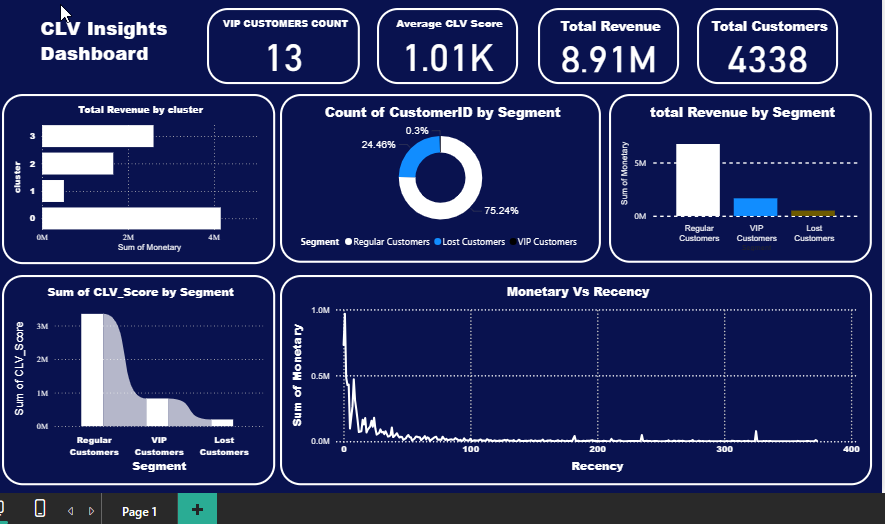

This screenshot's page, from the dashboard's own definition file:
{"tool":"powerbi","page":{"name":"Page 1","canvas":[1280,720],"ordinal":0},"visuals":[{"type":"textbox","box":[59.3,23.1,229.9,94],"z":0},{"type":"card","title":"Total Customers","fields":{"Values":["CountNonNull(CLV_Final_Project.CustomerID)"]},"box":[1013.5,18.8,203.9,109.9],"z":1000},{"type":"card","title":"Total Revenue","fields":{"Values":["Sum(CLV_Final_Project.Monetary)"]},"box":[783.6,18.8,203.9,109.9],"z":2000},{"type":"card","title":"Average CLV Score","fields":{"Values":["Avg(CLV_Final_Project.CLV_Score)"]},"box":[550.8,18.8,203.9,109.9],"z":2001},{"type":"card","title":"VIP CUSTOMERS COUNT","fields":{"Values":["CLV_Final_Project.VIP_Customers"]},"box":[305.1,18.8,221.2,109.9],"z":2002},{"type":"donutChart","fields":{"Y":["CountNonNull(CLV_Final_Project.CustomerID)"],"Category":["CLV_Final_Project.Segment"]},"box":[410.6,143.1,464.1,244.3],"z":2003},{"type":"columnChart","title":"total Revenue by Segment","fields":{"Category":["CLV_Final_Project.Segment"],"Y":["Sum(CLV_Final_Project.Monetary)"]},"box":[886.3,143.1,380.2,244.3],"z":2004},{"type":"clusteredBarChart","title":"Total Revenue by cluster","fields":{"Category":["CLV_Final_Project.cluster"],"Y":["Sum(CLV_Final_Project.Monetary)"]},"box":[8.7,143.1,394.7,245.8],"z":2005},{"type":"ribbonChart","fields":{"Y":["Sum(CLV_Final_Project.CLV_Score)"],"Category":["CLV_Final_Project.Segment"]},"box":[8.7,404.8,394.7,303.6],"z":2006},{"type":"lineChart","title":"Monetary Vs Recency","fields":{"Y":["Sum(CLV_Final_Project.Monetary)"],"Category":["CLV_Final_Project.Recency"]},"box":[410.6,404.8,855.9,303.6],"z":2007}]}

Visuals, with their boxes in screenshot pixels (x1, y1, x2, y2):
textbox: pyautogui.locateOnScreen(38, 11, 195, 75)
"Total Customers" card: pyautogui.locateOnScreen(689, 8, 828, 83)
"Total Revenue" card: pyautogui.locateOnScreen(532, 8, 671, 83)
"Average CLV Score" card: pyautogui.locateOnScreen(373, 8, 512, 83)
"VIP CUSTOMERS COUNT" card: pyautogui.locateOnScreen(206, 8, 357, 83)
donutChart - CountNonNull(CLV_Final_Project.CustomerID) x CLV_Final_Project.Segment: pyautogui.locateOnScreen(278, 93, 594, 260)
"total Revenue by Segment" columnChart: pyautogui.locateOnScreen(602, 93, 861, 260)
"Total Revenue by cluster" clusteredBarChart: pyautogui.locateOnScreen(4, 93, 273, 261)
ribbonChart - Sum(CLV_Final_Project.CLV_Score) x CLV_Final_Project.Segment: pyautogui.locateOnScreen(4, 271, 273, 478)
"Monetary Vs Recency" lineChart: pyautogui.locateOnScreen(278, 271, 861, 478)
